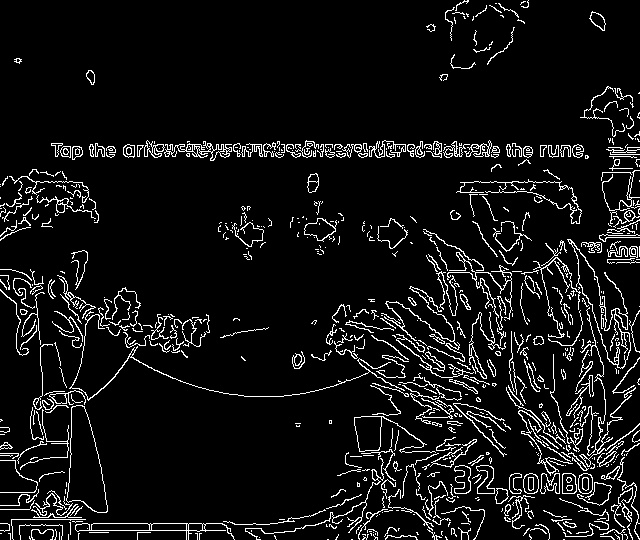down: (486, 213, 530, 258)
left: (227, 214, 274, 257)
right: (370, 213, 415, 255), (296, 213, 342, 249)
